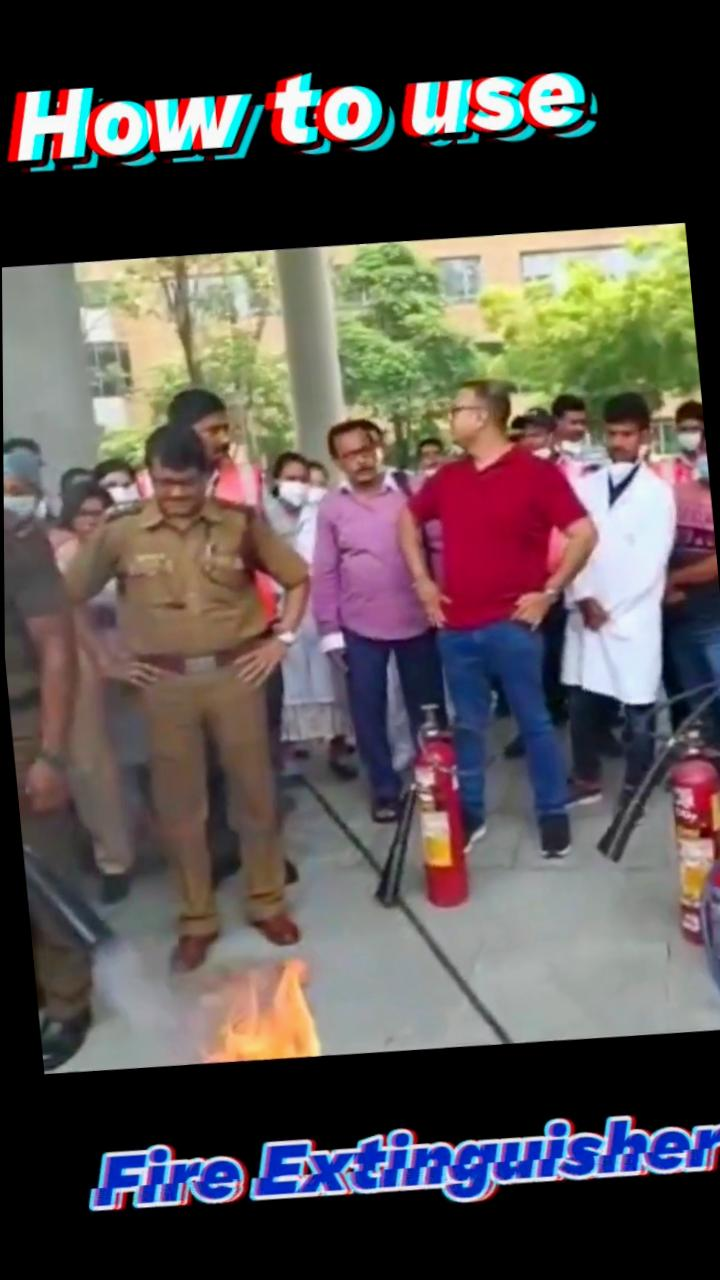FireExtinguisher: (642, 719, 720, 947), (395, 702, 475, 914), (703, 843, 720, 1001)
not: (405, 367, 585, 641), (149, 397, 298, 616), (169, 936, 332, 1081), (638, 429, 717, 570)
